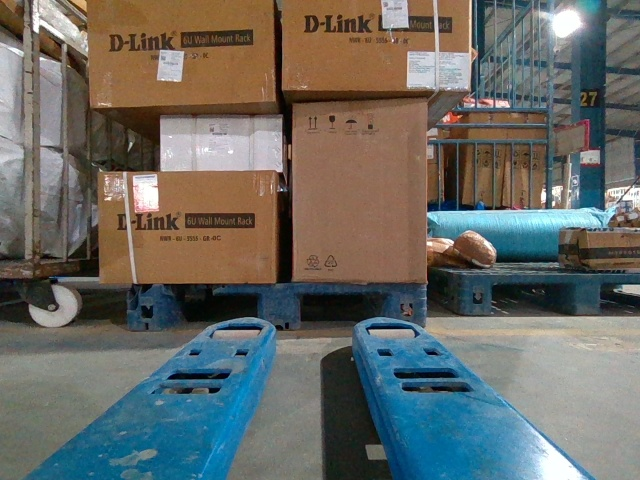block: (130, 286, 176, 331), (258, 286, 301, 332), (388, 286, 426, 328), (460, 273, 492, 316), (570, 275, 598, 311)
front: (128, 285, 428, 327)
hole pallet: (171, 296, 261, 328), (298, 294, 380, 328), (491, 283, 575, 313)
